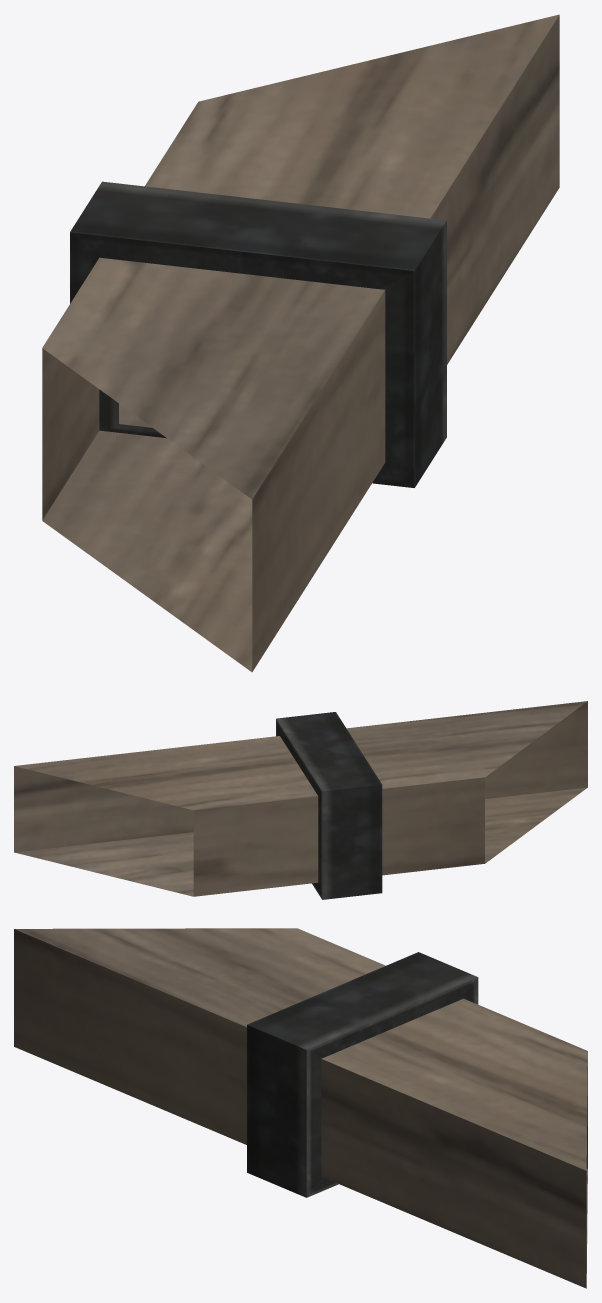
The model's file is Pillar_B_Support.fbx.
The picture shows the model from 3 angles, top to bottom: view 1: azimuth 30°, elevation 25°; view 2: azimuth 150°, elevation 25°; view 3: azimuth 270°, elevation 25°; orthographic projection. The views are drawn at different scales.
Visible parts, largest first — view 1: Pillar_B_Support; view 2: Pillar_B_Support; view 3: Pillar_B_Support.
Part boxes in pixels (x1,y1,x2,y2): Pillar_B_Support: (42,14,559,672); Pillar_B_Support: (14,701,587,899); Pillar_B_Support: (14,928,587,1288).
Bounding box in the file's own units: 0.7167 × 0.2037 × 0.7162.
